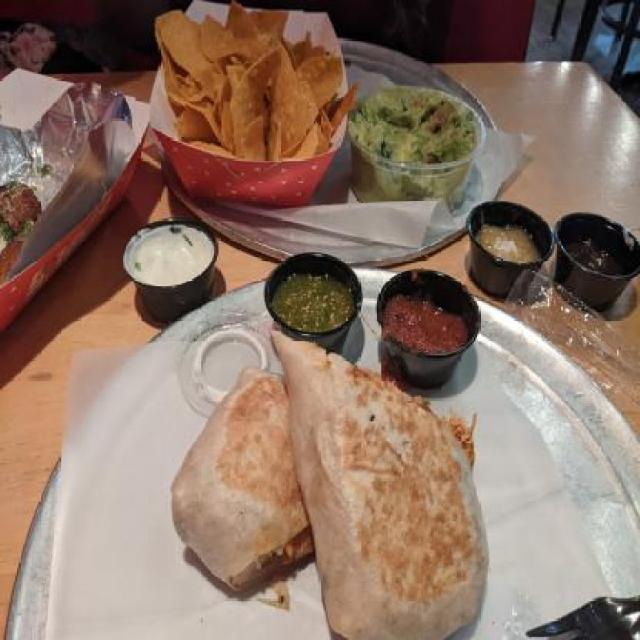breakfast burrito: (172, 328, 498, 640)
guacamole: (354, 79, 480, 196)
nachos: (150, 6, 350, 197)
